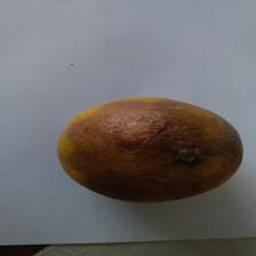Orange Semirotten: (47, 92, 244, 209)
